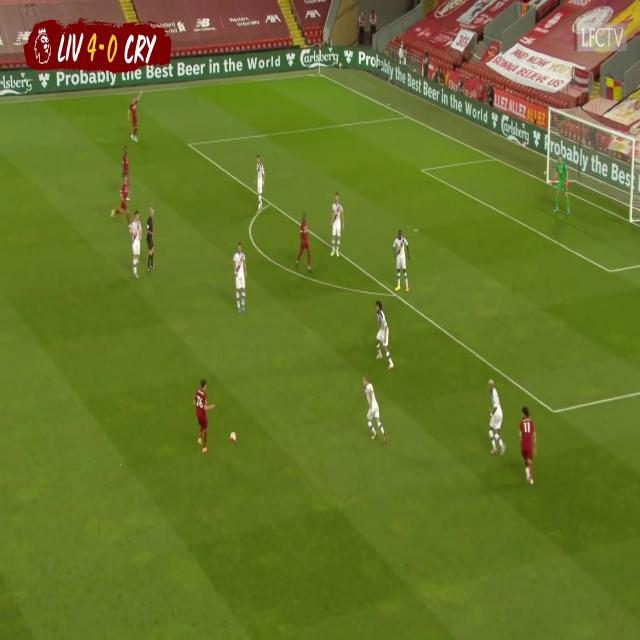Ball: (231, 433, 238, 445)
GoalKeeper: (549, 156, 572, 222)
TEAM 1: (194, 380, 216, 455), (518, 408, 536, 484), (296, 215, 314, 276), (113, 171, 132, 223), (119, 139, 133, 181)
TEAM 2: (361, 373, 388, 447), (486, 381, 504, 458), (373, 299, 392, 367), (128, 208, 146, 276), (232, 242, 248, 314), (393, 231, 411, 294), (330, 193, 344, 258), (128, 95, 143, 145), (254, 156, 265, 212)
